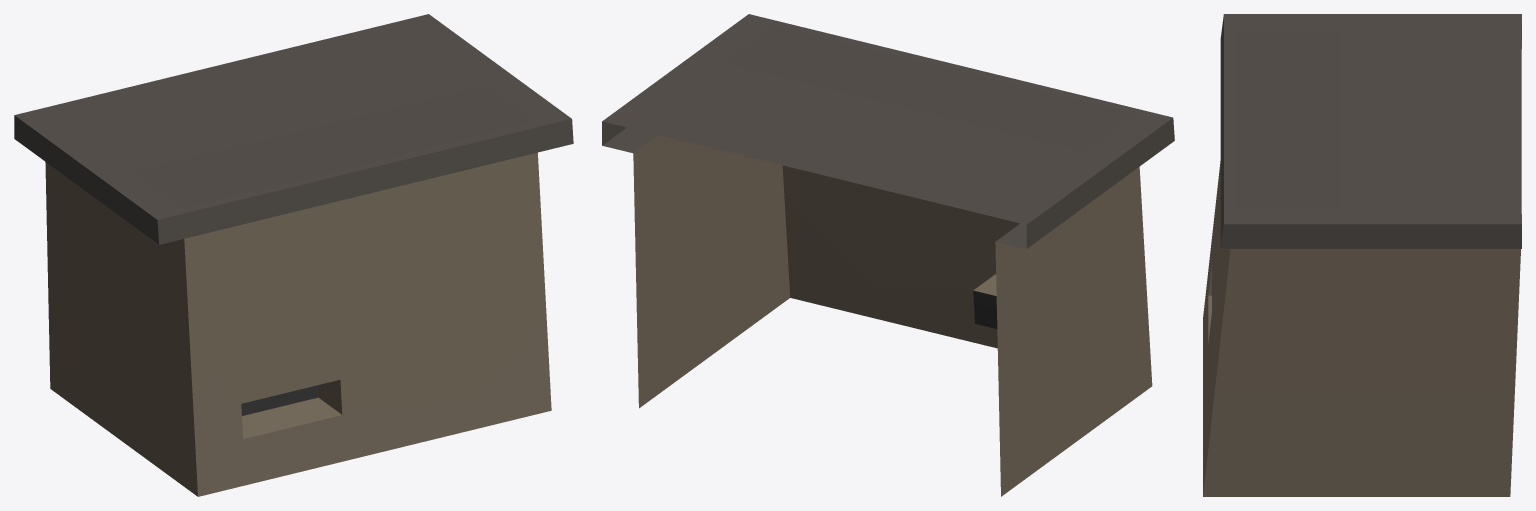
Rendered from Fort_Extension2.fbx.
The picture shows the model from 3 angles, left to right: view 1: azimuth 30°, elevation 25°; view 2: azimuth 150°, elevation 25°; view 3: azimuth 270°, elevation 25°; orthographic projection. The views are drawn at different scales.
Visible parts, largest first — view 1: Fort_Extension2; view 2: Fort_Extension2; view 3: Fort_Extension2.
Boxes of the visible parts, <box> form: Fort_Extension2: <box>14,14,573,496</box>; Fort_Extension2: <box>602,14,1174,496</box>; Fort_Extension2: <box>1203,14,1521,496</box>.
Size of the model in its own units: 627 by 400 by 401.
